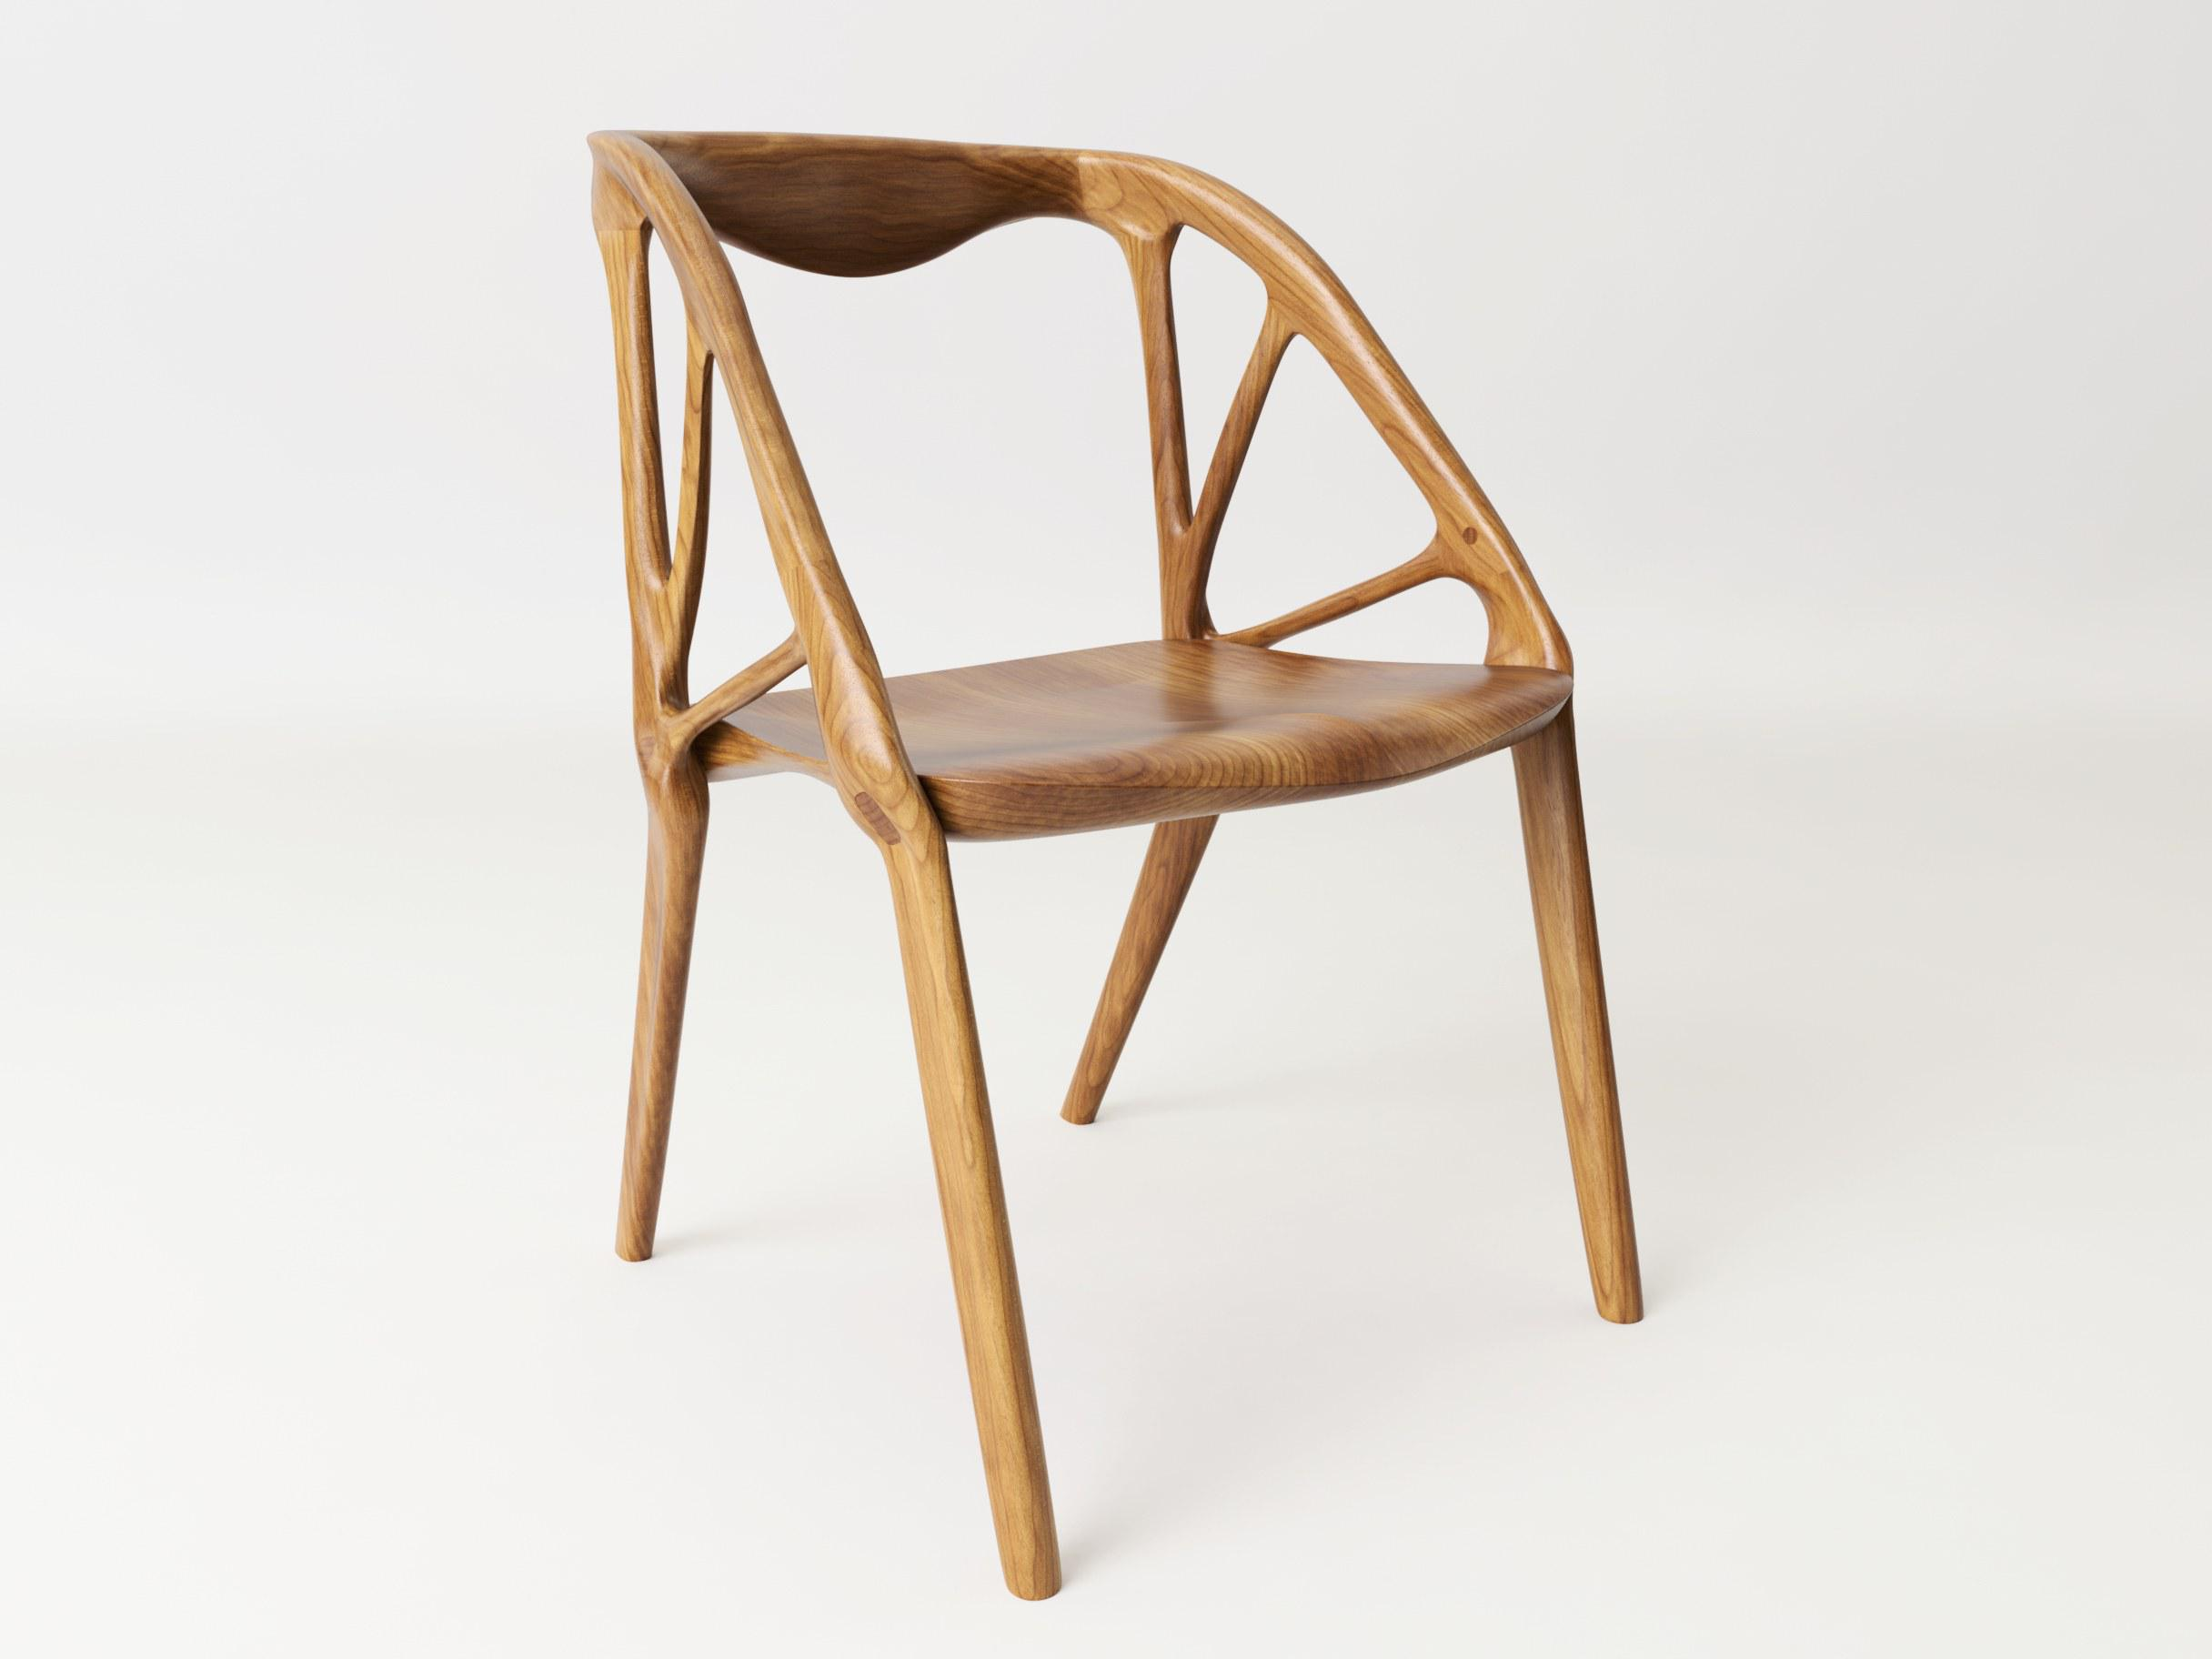chair: (543, 87, 1768, 1628)
